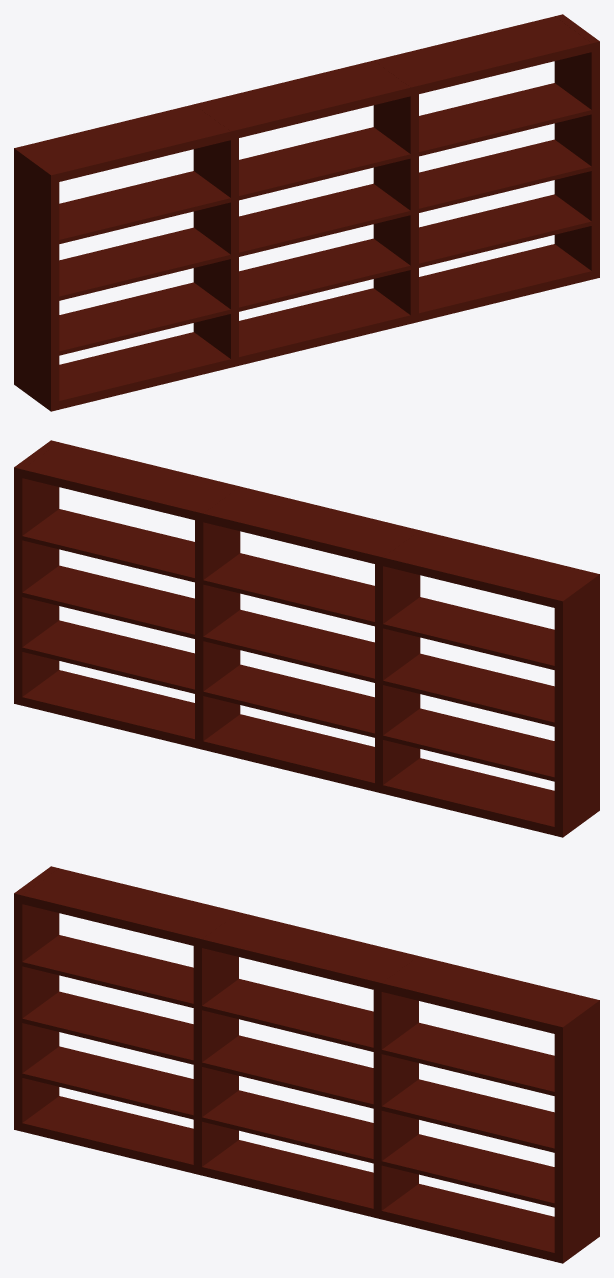
Rendered from Shelfing.FBX.
The picture shows the model from 3 angles, top to bottom: view 1: azimuth 30°, elevation 25°; view 2: azimuth 150°, elevation 25°; view 3: azimuth 330°, elevation 25°; orthographic projection.
Visible parts, largest first — view 1: Bar_Cabinet; view 2: Bar_Cabinet; view 3: Bar_Cabinet.
Boxes of the visible parts, box(x1,y1,x2,y2) form: Bar_Cabinet: box(14, 14, 599, 411); Bar_Cabinet: box(14, 440, 599, 837); Bar_Cabinet: box(14, 866, 599, 1263).
Bounding box in the file's own units: 6.66 × 2.74 × 0.7796.
